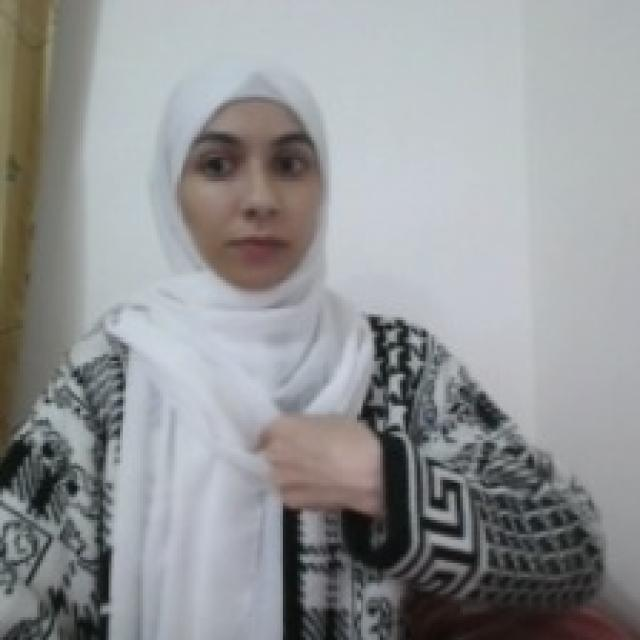me: (250, 404, 387, 520)
